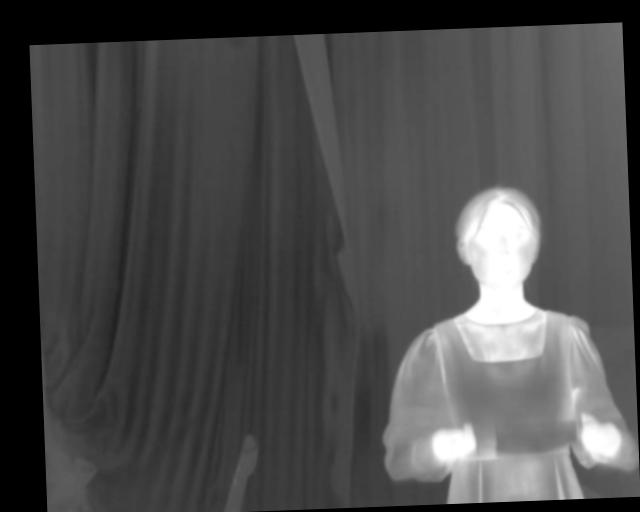face: (451, 183, 544, 292)
